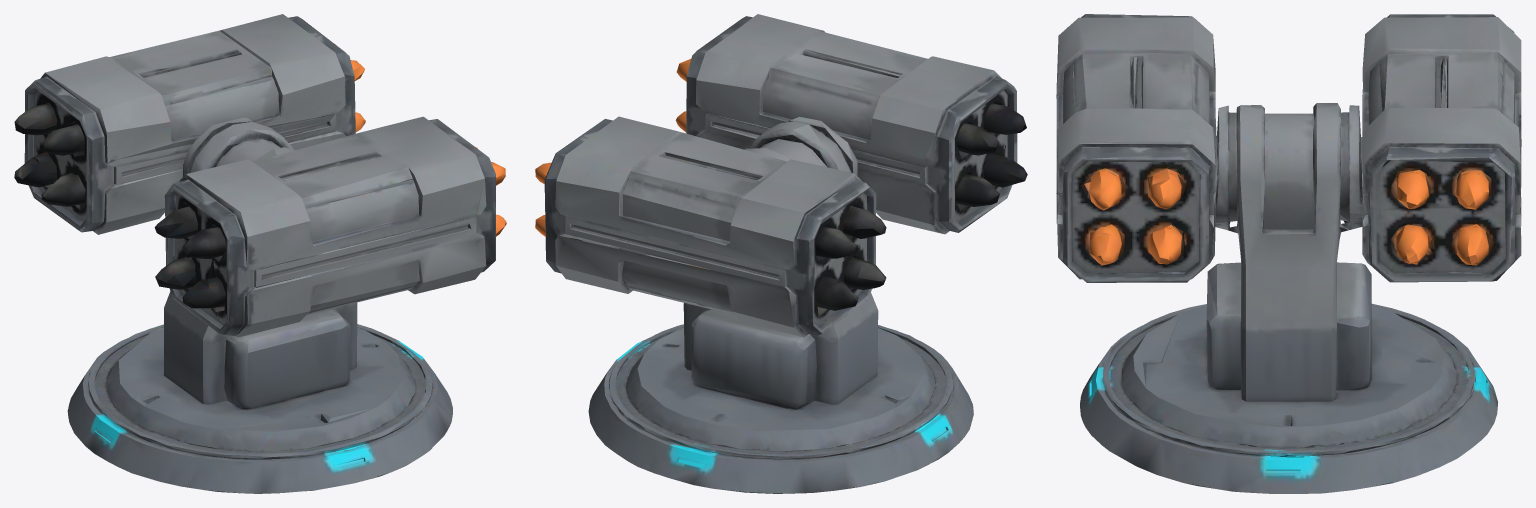
Rendered from town-rocket-light.glb.
3 views of the same model, side by side, from view 1: azimuth 30°, elevation 25°; view 2: azimuth 150°, elevation 25°; view 3: azimuth 270°, elevation 25° (orthographic). The views are drawn at different scales.
Parts seen in each view (by area): view 1: town-rocket-light; view 2: town-rocket-light; view 3: town-rocket-light.
Part boxes in pixels (<box>): town-rocket-light: <box>14,14,506,493</box>; town-rocket-light: <box>535,14,1027,493</box>; town-rocket-light: <box>1056,14,1521,493</box>.
Bounding box in the file's own units: 3.24 × 2.8 × 3.6.
Materials: 1 (1 with a texture image).
